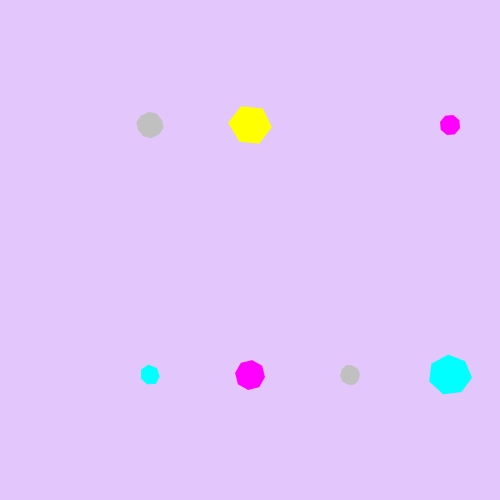decagon: (132, 109, 168, 142), (335, 361, 365, 389)
heptagon: (426, 352, 475, 399), (136, 361, 165, 389)
hexagon: (225, 104, 276, 147)
octagon: (231, 356, 269, 394), (435, 110, 465, 140)
